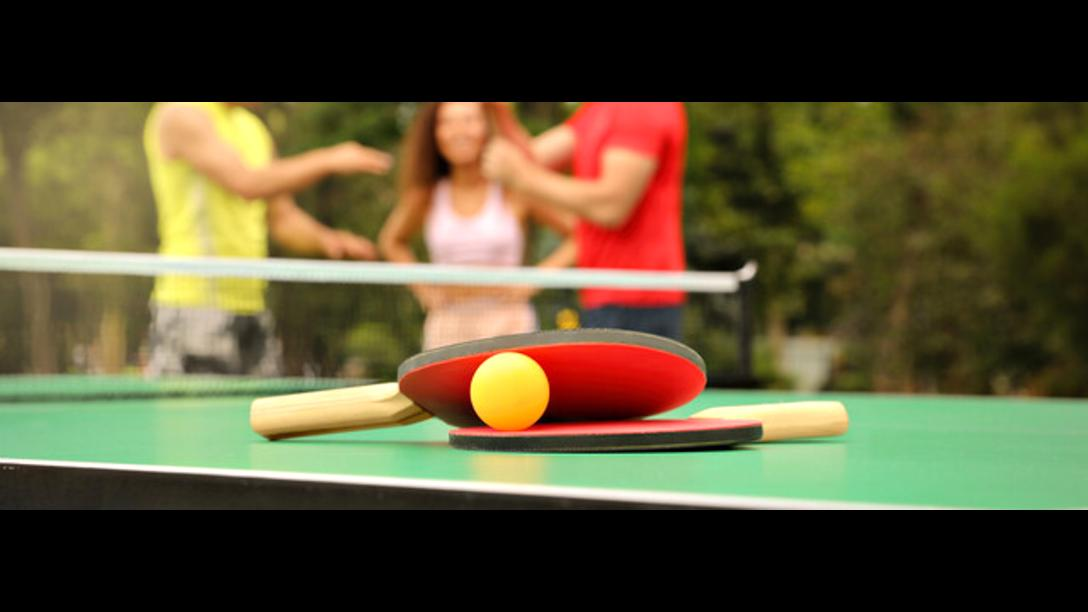Table-Tennis-Ball: (472, 348, 550, 430)
